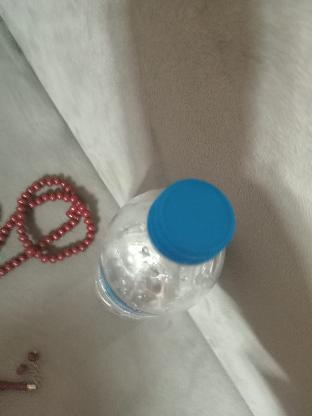Plastic Bottle: (96, 176, 236, 322)
